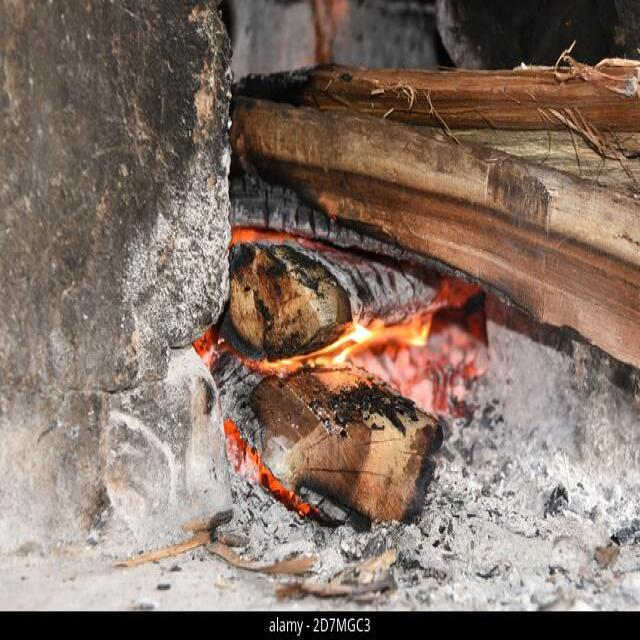fire: (257, 304, 431, 371)
